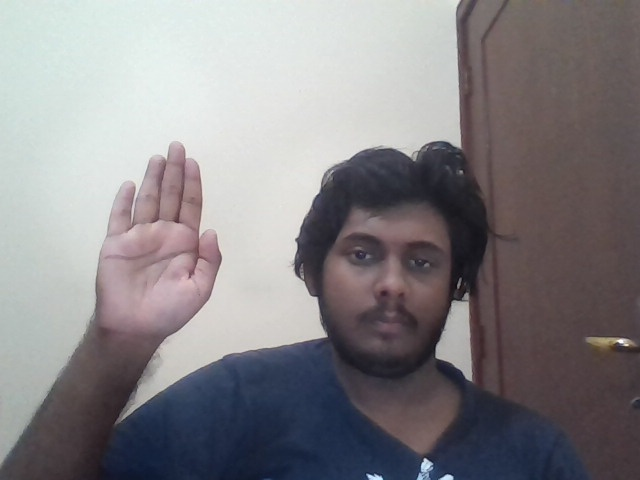hello: (95, 140, 223, 338)
